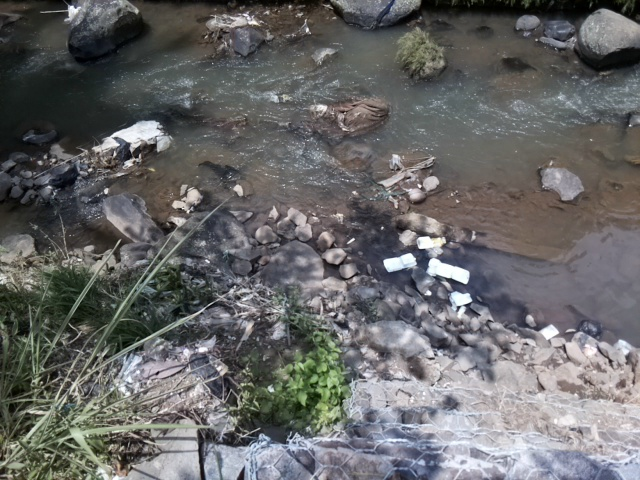Sampah_Plastik: (95, 121, 165, 146), (212, 11, 252, 27), (577, 317, 602, 338)
Sampah_Styrofoam: (426, 258, 473, 288), (382, 253, 418, 273), (449, 288, 474, 306), (539, 322, 560, 342), (414, 235, 443, 249)
